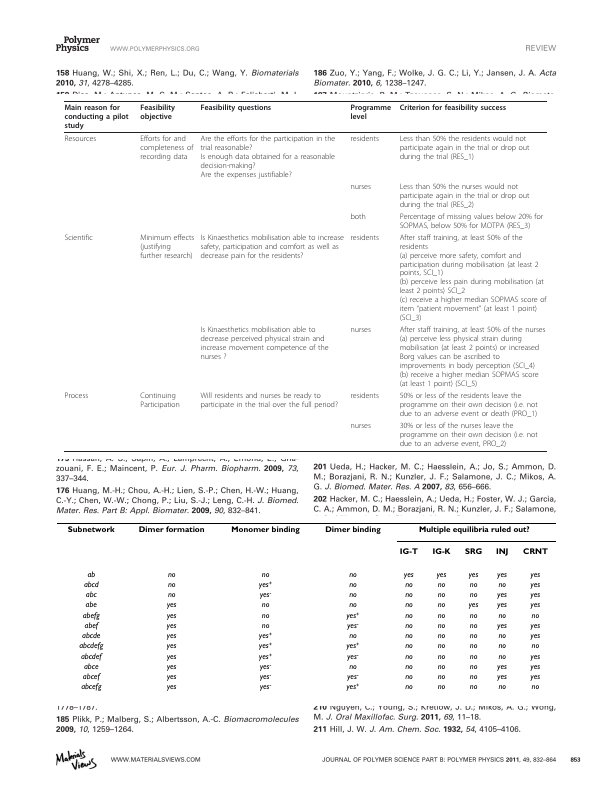borderless: (63, 99, 547, 451), (55, 521, 557, 700)
cell: (399, 233, 547, 323), (399, 325, 546, 389), (199, 134, 336, 179), (199, 325, 329, 362), (199, 233, 345, 260), (399, 391, 539, 419), (399, 421, 539, 449), (399, 134, 530, 162), (399, 182, 530, 209), (199, 391, 339, 410), (399, 212, 544, 230), (64, 103, 129, 130), (139, 134, 194, 162), (139, 233, 195, 260), (417, 526, 530, 535), (399, 103, 507, 112), (139, 391, 181, 410), (349, 103, 392, 121), (139, 103, 176, 121), (199, 103, 272, 112), (230, 526, 300, 535), (137, 526, 205, 535), (324, 526, 381, 535), (66, 526, 115, 535), (64, 134, 97, 144), (349, 134, 380, 144), (349, 391, 380, 401), (63, 233, 94, 242), (349, 233, 380, 242), (63, 391, 89, 401), (522, 548, 548, 557), (78, 642, 104, 651), (79, 652, 102, 662), (349, 325, 372, 335), (349, 421, 372, 431), (349, 182, 372, 191), (80, 683, 102, 692), (81, 611, 100, 621), (398, 548, 418, 557), (431, 548, 451, 557), (463, 548, 483, 557), (81, 632, 101, 641), (81, 673, 100, 682), (82, 580, 99, 590), (82, 662, 99, 672), (349, 212, 367, 221), (83, 621, 99, 631), (258, 580, 273, 590), (345, 611, 360, 621), (258, 652, 273, 662), (258, 662, 272, 672), (494, 548, 509, 557), (258, 632, 273, 641), (258, 642, 273, 651), (345, 642, 360, 651), (345, 683, 360, 692), (346, 621, 359, 631), (346, 652, 359, 662), (258, 591, 272, 600), (258, 673, 272, 682), (258, 683, 272, 692), (435, 570, 447, 580), (467, 570, 479, 580), (529, 570, 541, 580), (529, 580, 541, 590), (165, 611, 177, 621), (165, 621, 177, 631), (529, 621, 541, 631), (165, 652, 177, 662), (529, 652, 541, 662), (165, 662, 177, 672), (529, 662, 541, 672), (84, 591, 97, 600), (84, 601, 97, 610), (346, 673, 359, 682), (403, 570, 414, 580), (496, 570, 507, 580), (496, 621, 507, 631), (496, 662, 507, 672), (529, 591, 541, 600), (165, 601, 177, 610), (467, 601, 479, 610), (529, 601, 541, 610), (165, 632, 177, 641), (529, 632, 541, 641), (165, 642, 177, 651), (165, 673, 177, 682), (529, 673, 541, 682), (165, 683, 177, 692), (86, 570, 96, 580), (166, 570, 176, 580), (260, 570, 270, 580), (166, 580, 176, 590), (436, 580, 446, 590), (468, 580, 478, 590), (260, 611, 270, 621), (436, 611, 446, 621), (468, 611, 478, 621), (530, 611, 540, 621), (260, 621, 270, 631), (436, 621, 446, 631), (468, 621, 478, 631), (436, 652, 446, 662), (468, 652, 478, 662), (436, 662, 446, 672), (468, 662, 478, 672), (496, 591, 507, 600), (496, 601, 507, 610), (496, 673, 507, 682), (348, 570, 357, 580), (348, 580, 357, 590), (404, 580, 413, 590), (497, 580, 506, 590), (166, 591, 176, 600), (436, 591, 446, 600), (468, 591, 478, 600), (260, 601, 270, 610), (436, 601, 446, 610), (404, 611, 413, 621), (497, 611, 506, 621), (404, 621, 413, 631), (436, 632, 446, 641), (468, 632, 478, 641), (436, 642, 446, 651), (468, 642, 478, 651), (530, 642, 540, 651), (404, 652, 413, 662), (497, 652, 506, 662), (348, 662, 357, 672), (404, 662, 413, 672), (436, 673, 446, 682), (468, 673, 478, 682), (436, 683, 446, 692), (468, 683, 478, 692), (530, 683, 540, 692), (348, 591, 357, 600), (404, 591, 413, 600), (348, 601, 357, 610), (404, 601, 413, 610), (348, 632, 357, 641), (404, 632, 413, 641), (497, 632, 506, 641), (404, 642, 413, 651), (497, 642, 506, 651), (404, 673, 413, 682), (404, 683, 413, 692), (497, 683, 506, 692)
